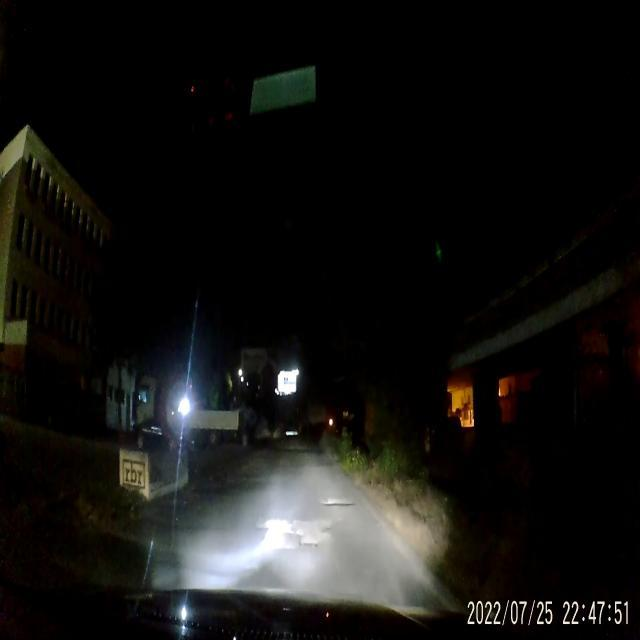Pothole: (290, 514, 335, 546), (322, 495, 354, 511)
